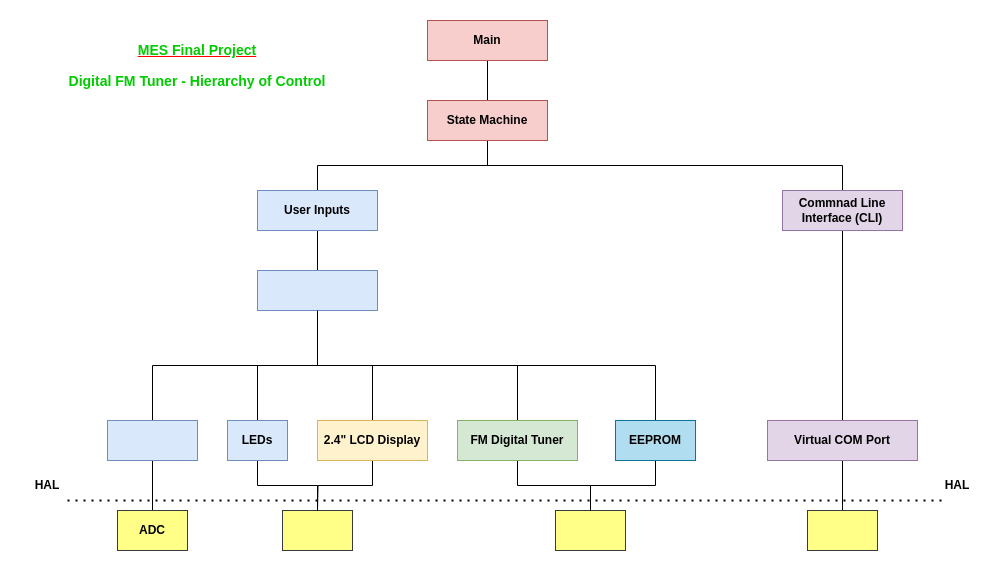
The diagram is 1004 pixels wide and 570 high, and some of its shapes have lost their labels. Here are the shapes that lost their labels. From the top down, the centre of each, then its label:
point 317,290: Modes
point 152,440: Push Buttons
point 317,530: GPIO
point 590,530: I2C
point 842,530: USB
